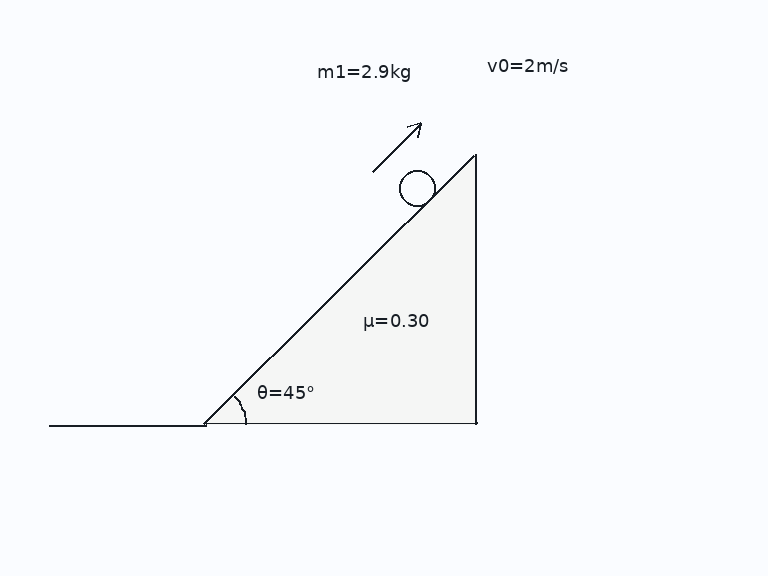ball: (397, 168, 437, 208)
ramp: (204, 153, 477, 426)
